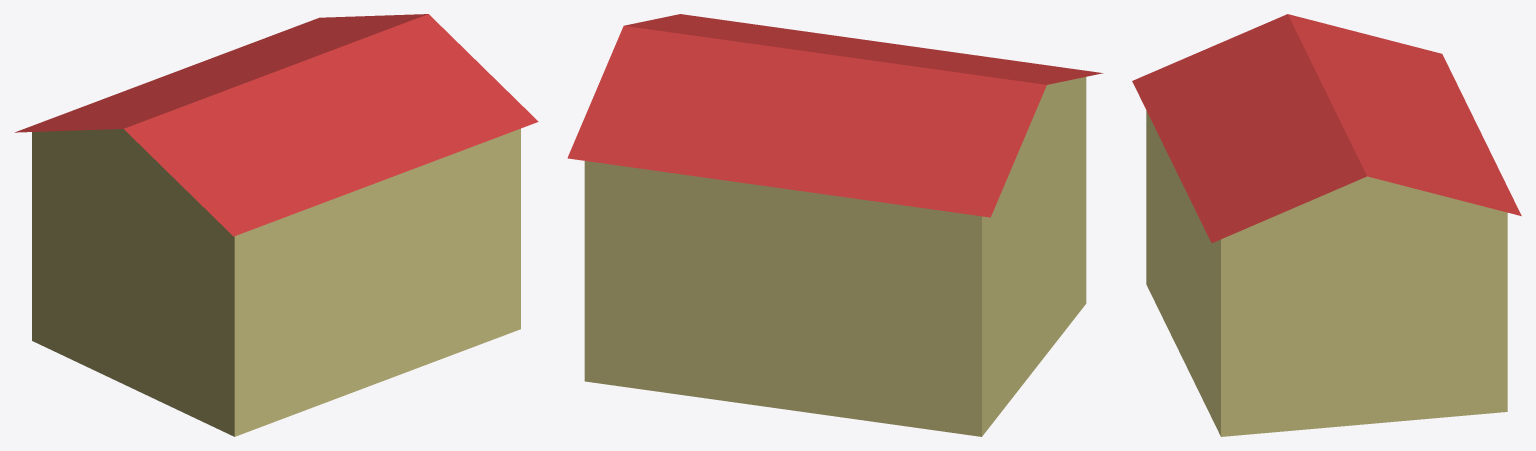
3 views of the same model, side by side, from view 1: azimuth 30°, elevation 25°; view 2: azimuth 150°, elevation 25°; view 3: azimuth 270°, elevation 25° (orthographic). The views are drawn at different scales.
Size of the model in its own units: 18.53 by 16.1 by 11.53.
